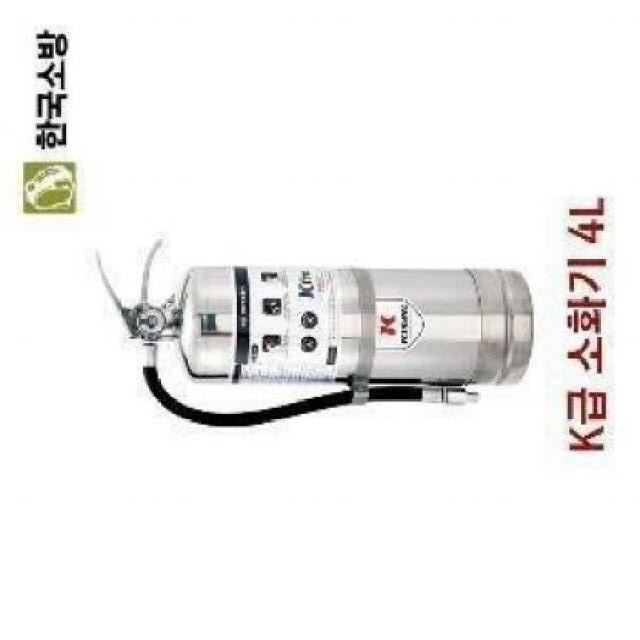fire extinguisher: (94, 240, 534, 428)
